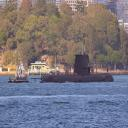submarine: (32, 54, 116, 82)
